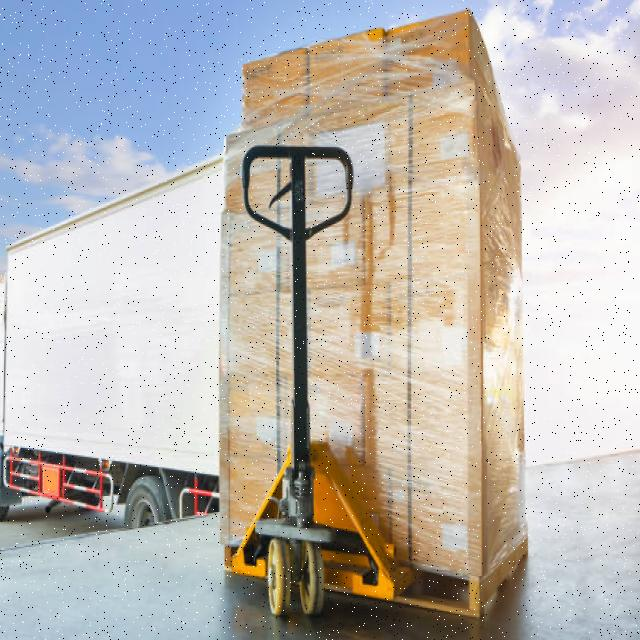Wooden-Pallets: (409, 534, 533, 621)
